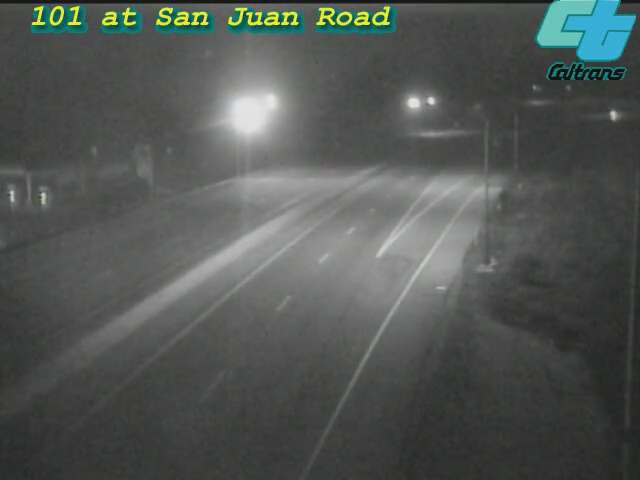vehicle: (590, 90, 640, 140)
